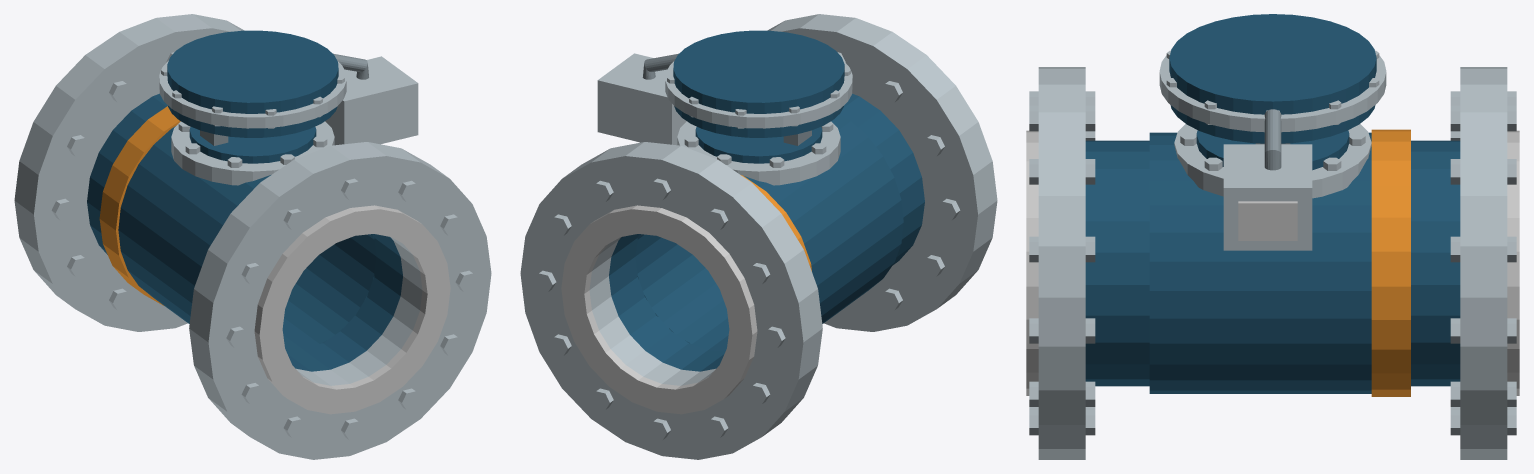
The model's file is body.obj.
3 views of the same model, side by side, from view 1: azimuth 30°, elevation 25°; view 2: azimuth 150°, elevation 25°; view 3: azimuth 270°, elevation 25° (orthographic). The views are drawn at different scales.
Size of the model in its own units: 0.82 by 0.86 by 1.
